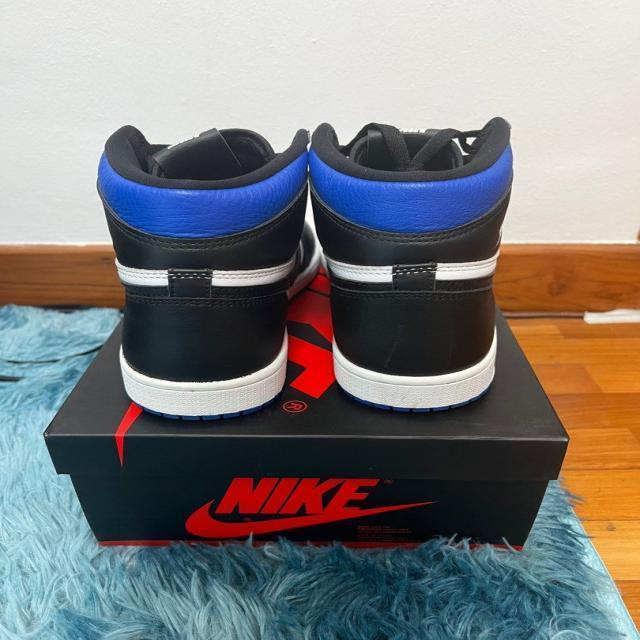nike original jordan 1: (90, 125, 310, 418), (309, 121, 505, 413)
